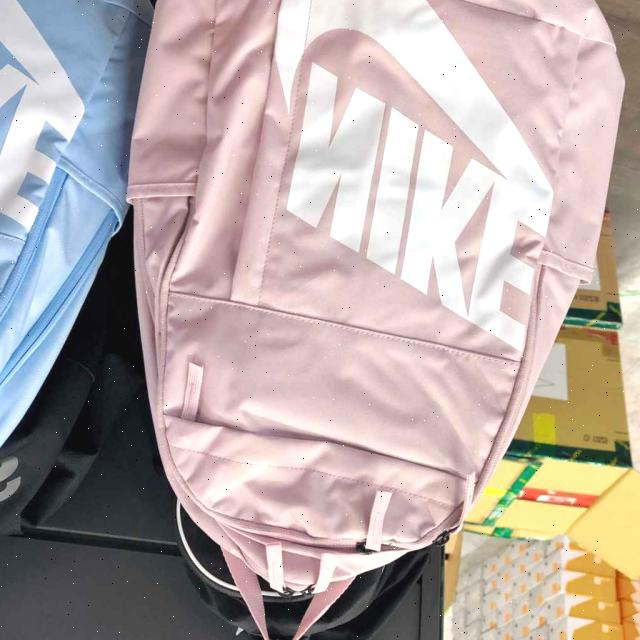Handbag: (120, 0, 636, 640)
